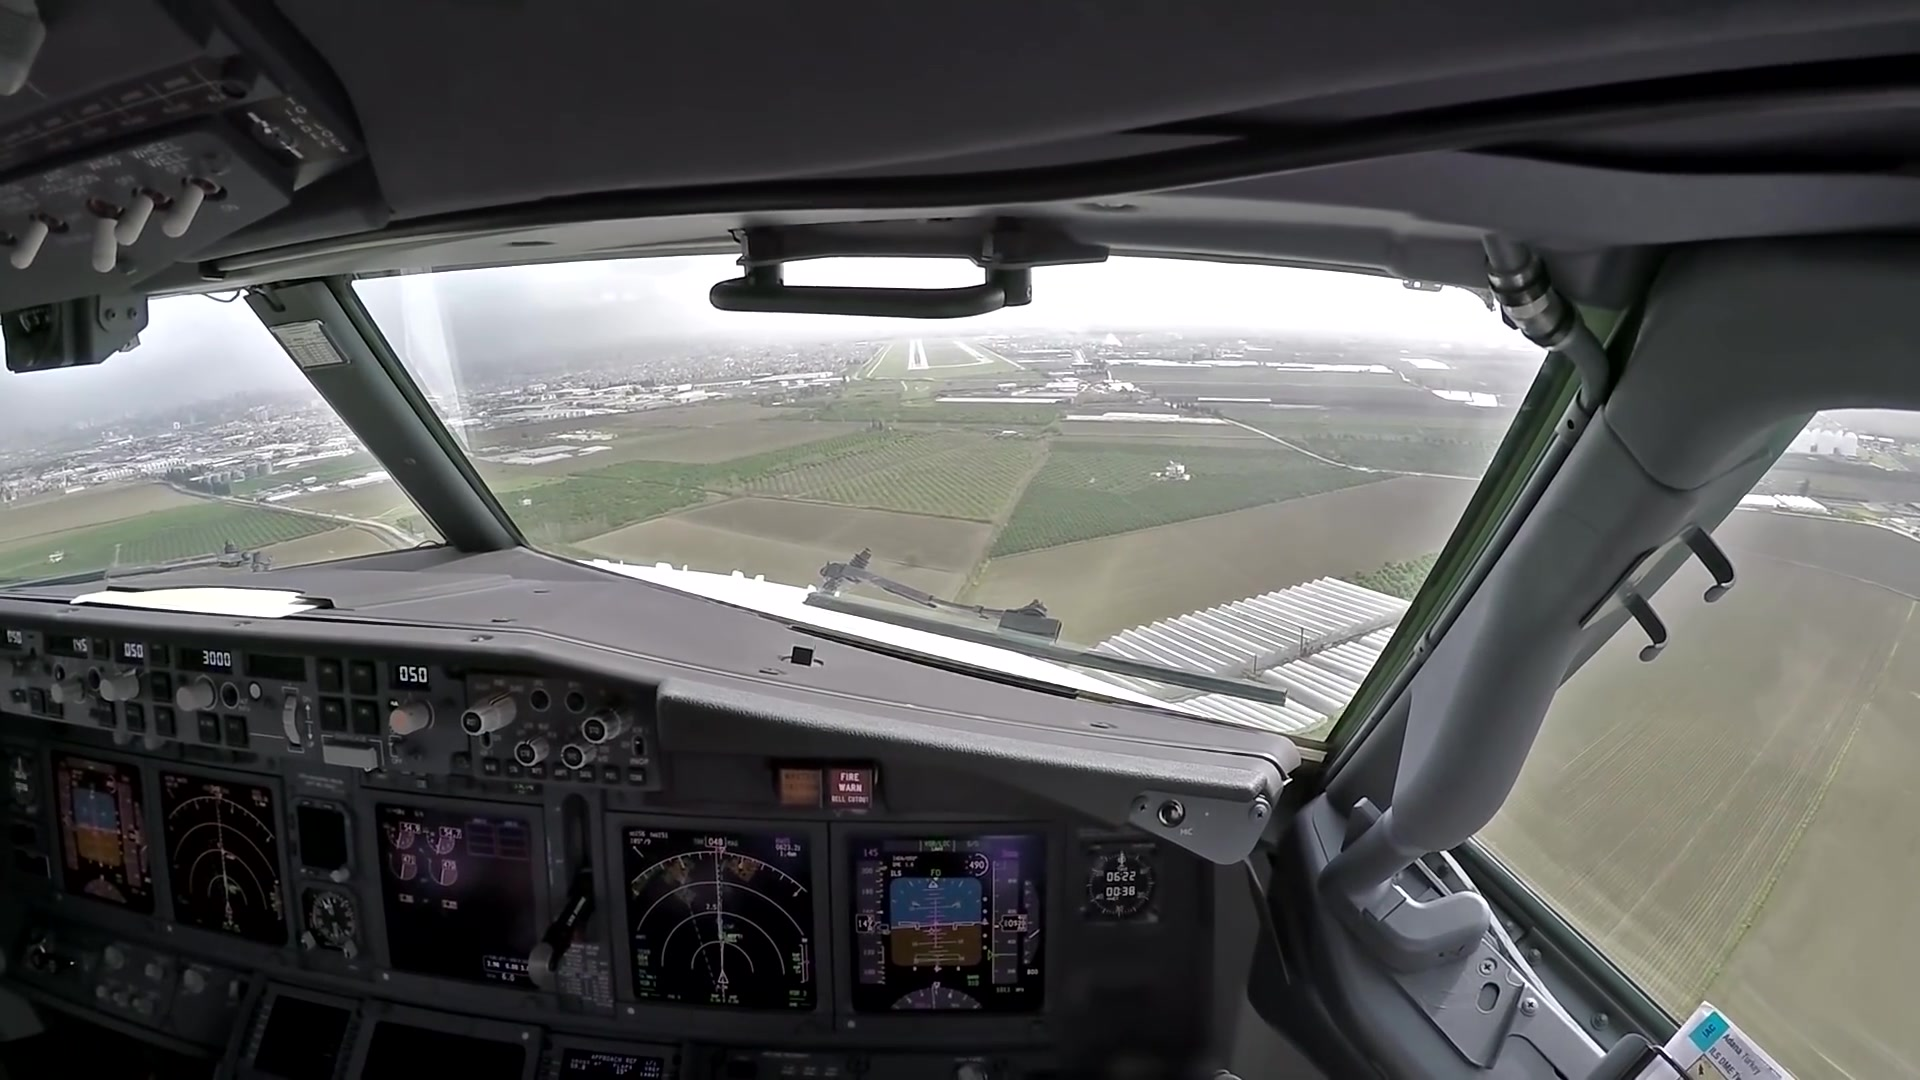runway: (905, 338, 930, 371)
